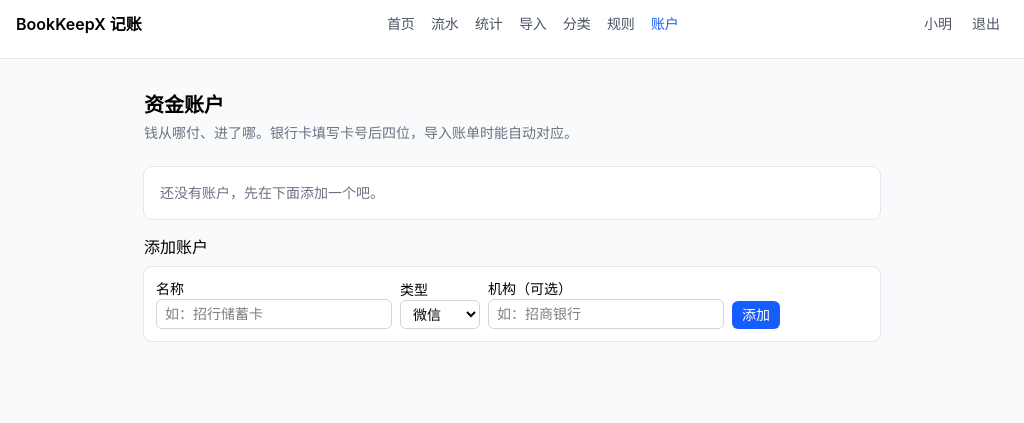
资金账户页 › 反向：银行卡的卡号后四位不合法 → 显示错误，不发送请求
Type "招行" into the field labelled "名称" at (274, 314), box [156, 299, 392, 329]
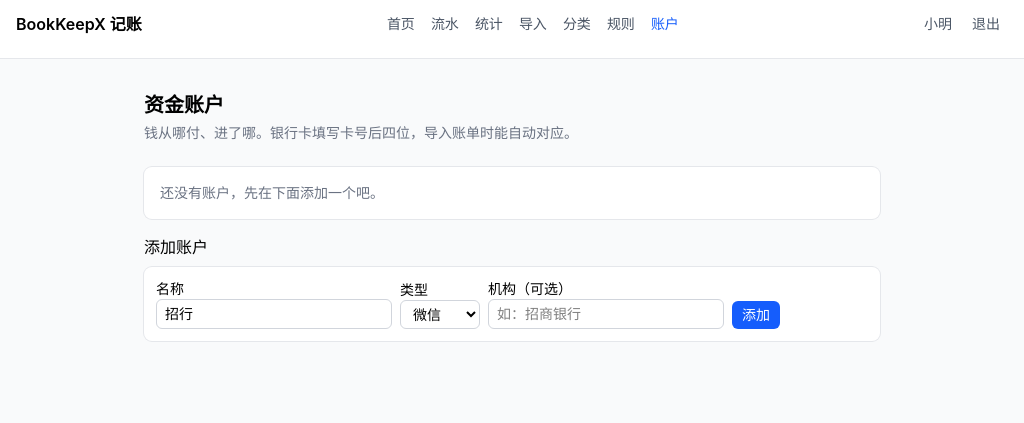
Select "储蓄卡" in the dropdown labelled "类型" at (440, 314), box [400, 300, 480, 329]
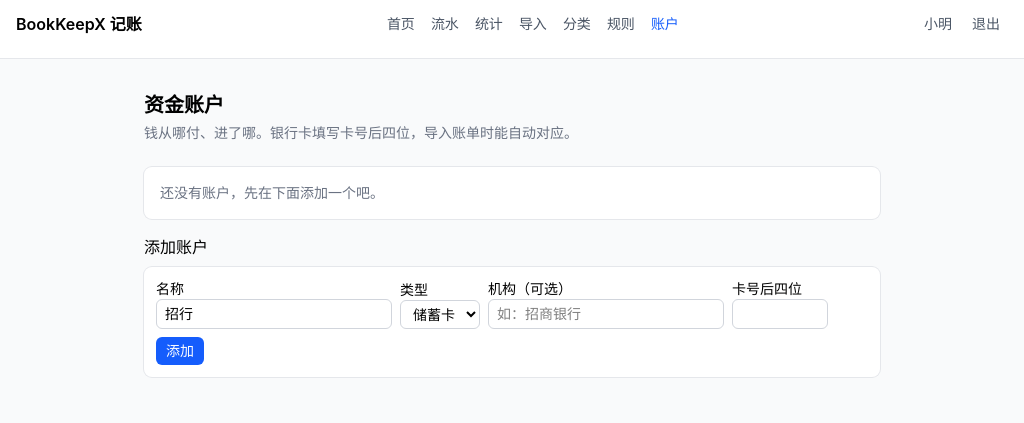
Type "12" into the field labelled "卡号后四位" at (780, 314), box [732, 299, 828, 329]
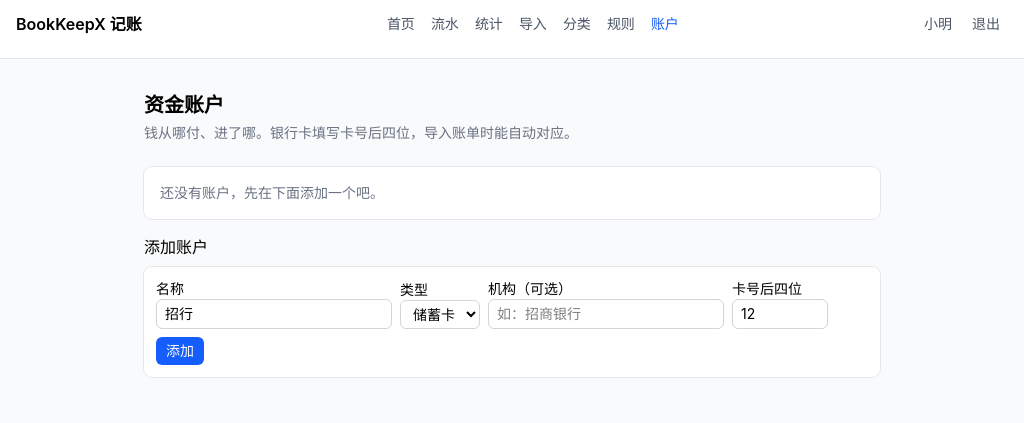
Click the button "添加" at (180, 351), box [156, 337, 204, 365]
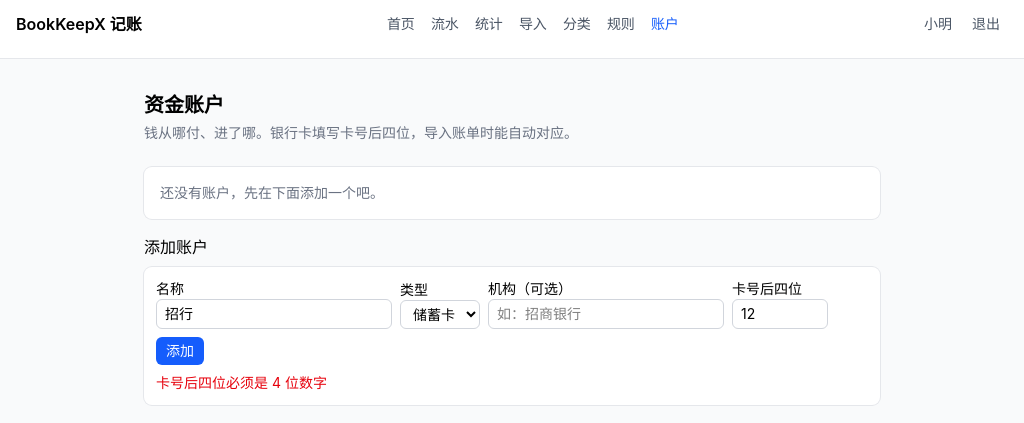
Now the message reads "卡号后四位必须是 4 位数字", box [156, 374, 327, 391]
